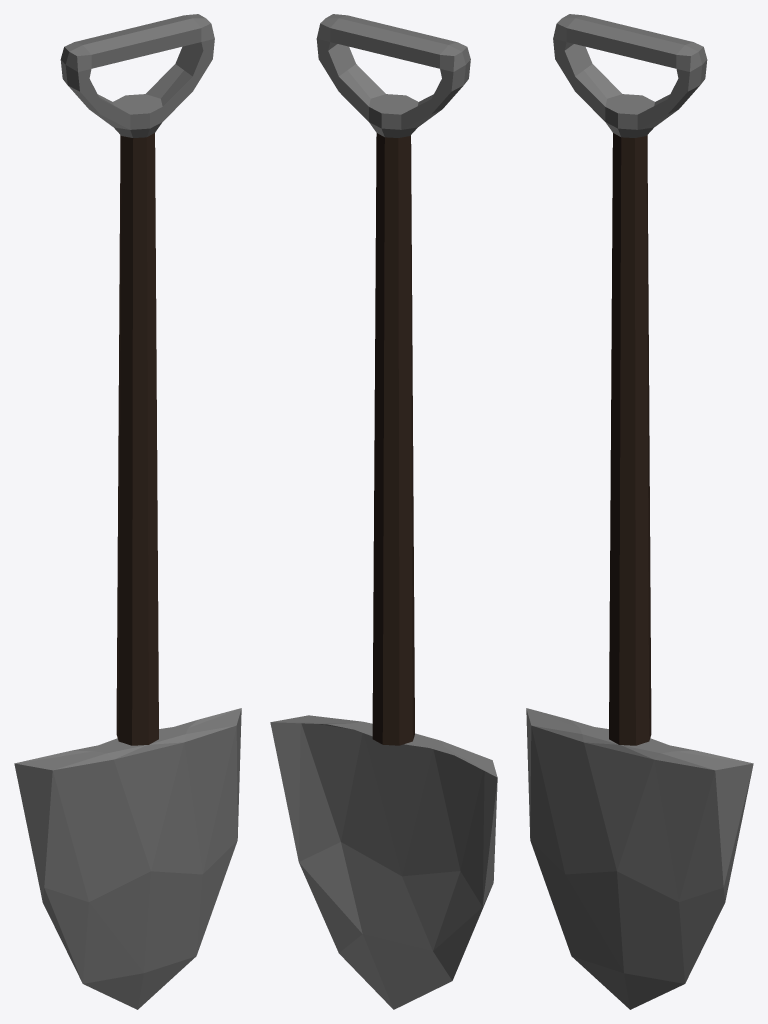
File: island_shovel.fbx
3 views of the same model, side by side, from view 1: azimuth 30°, elevation 25°; view 2: azimuth 150°, elevation 25°; view 3: azimuth 330°, elevation 25° (orthographic).
Visible parts, largest first — view 1: Icosphere.015; view 2: Icosphere.015; view 3: Icosphere.015.
Boxes of the visible parts, x1,y1,x2,y2 form: Icosphere.015: [14, 14, 241, 1009]; Icosphere.015: [270, 14, 497, 1009]; Icosphere.015: [526, 14, 753, 1009].
Bounding box in the file's own units: 0.3438 × 1.41 × 0.0669.
